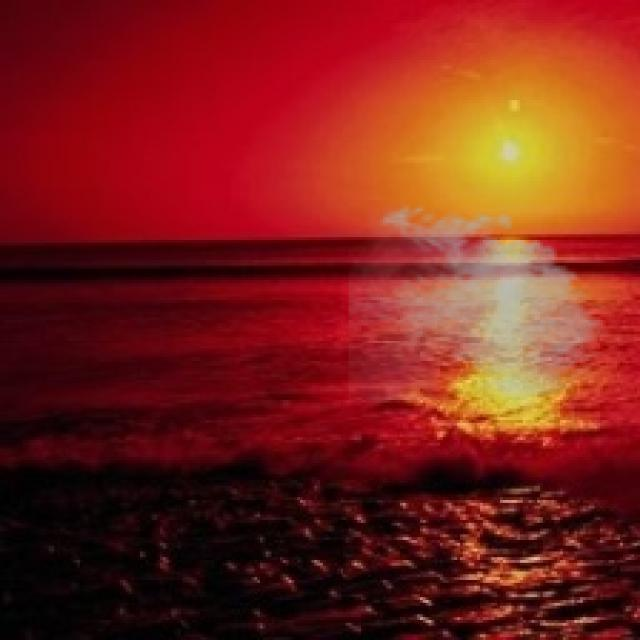Smoke: (348, 200, 614, 403)
